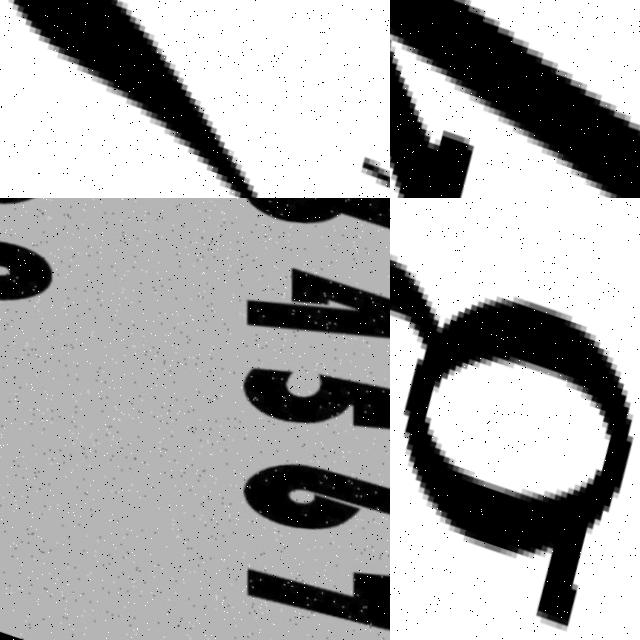0: (0, 198, 116, 364)
3: (206, 198, 390, 283)
4: (207, 213, 390, 387)
5: (198, 310, 390, 492)
6: (191, 400, 390, 593)
7: (0, 0, 390, 198), (183, 502, 390, 640)
G: (390, 198, 640, 640)
K: (390, 0, 640, 198)
